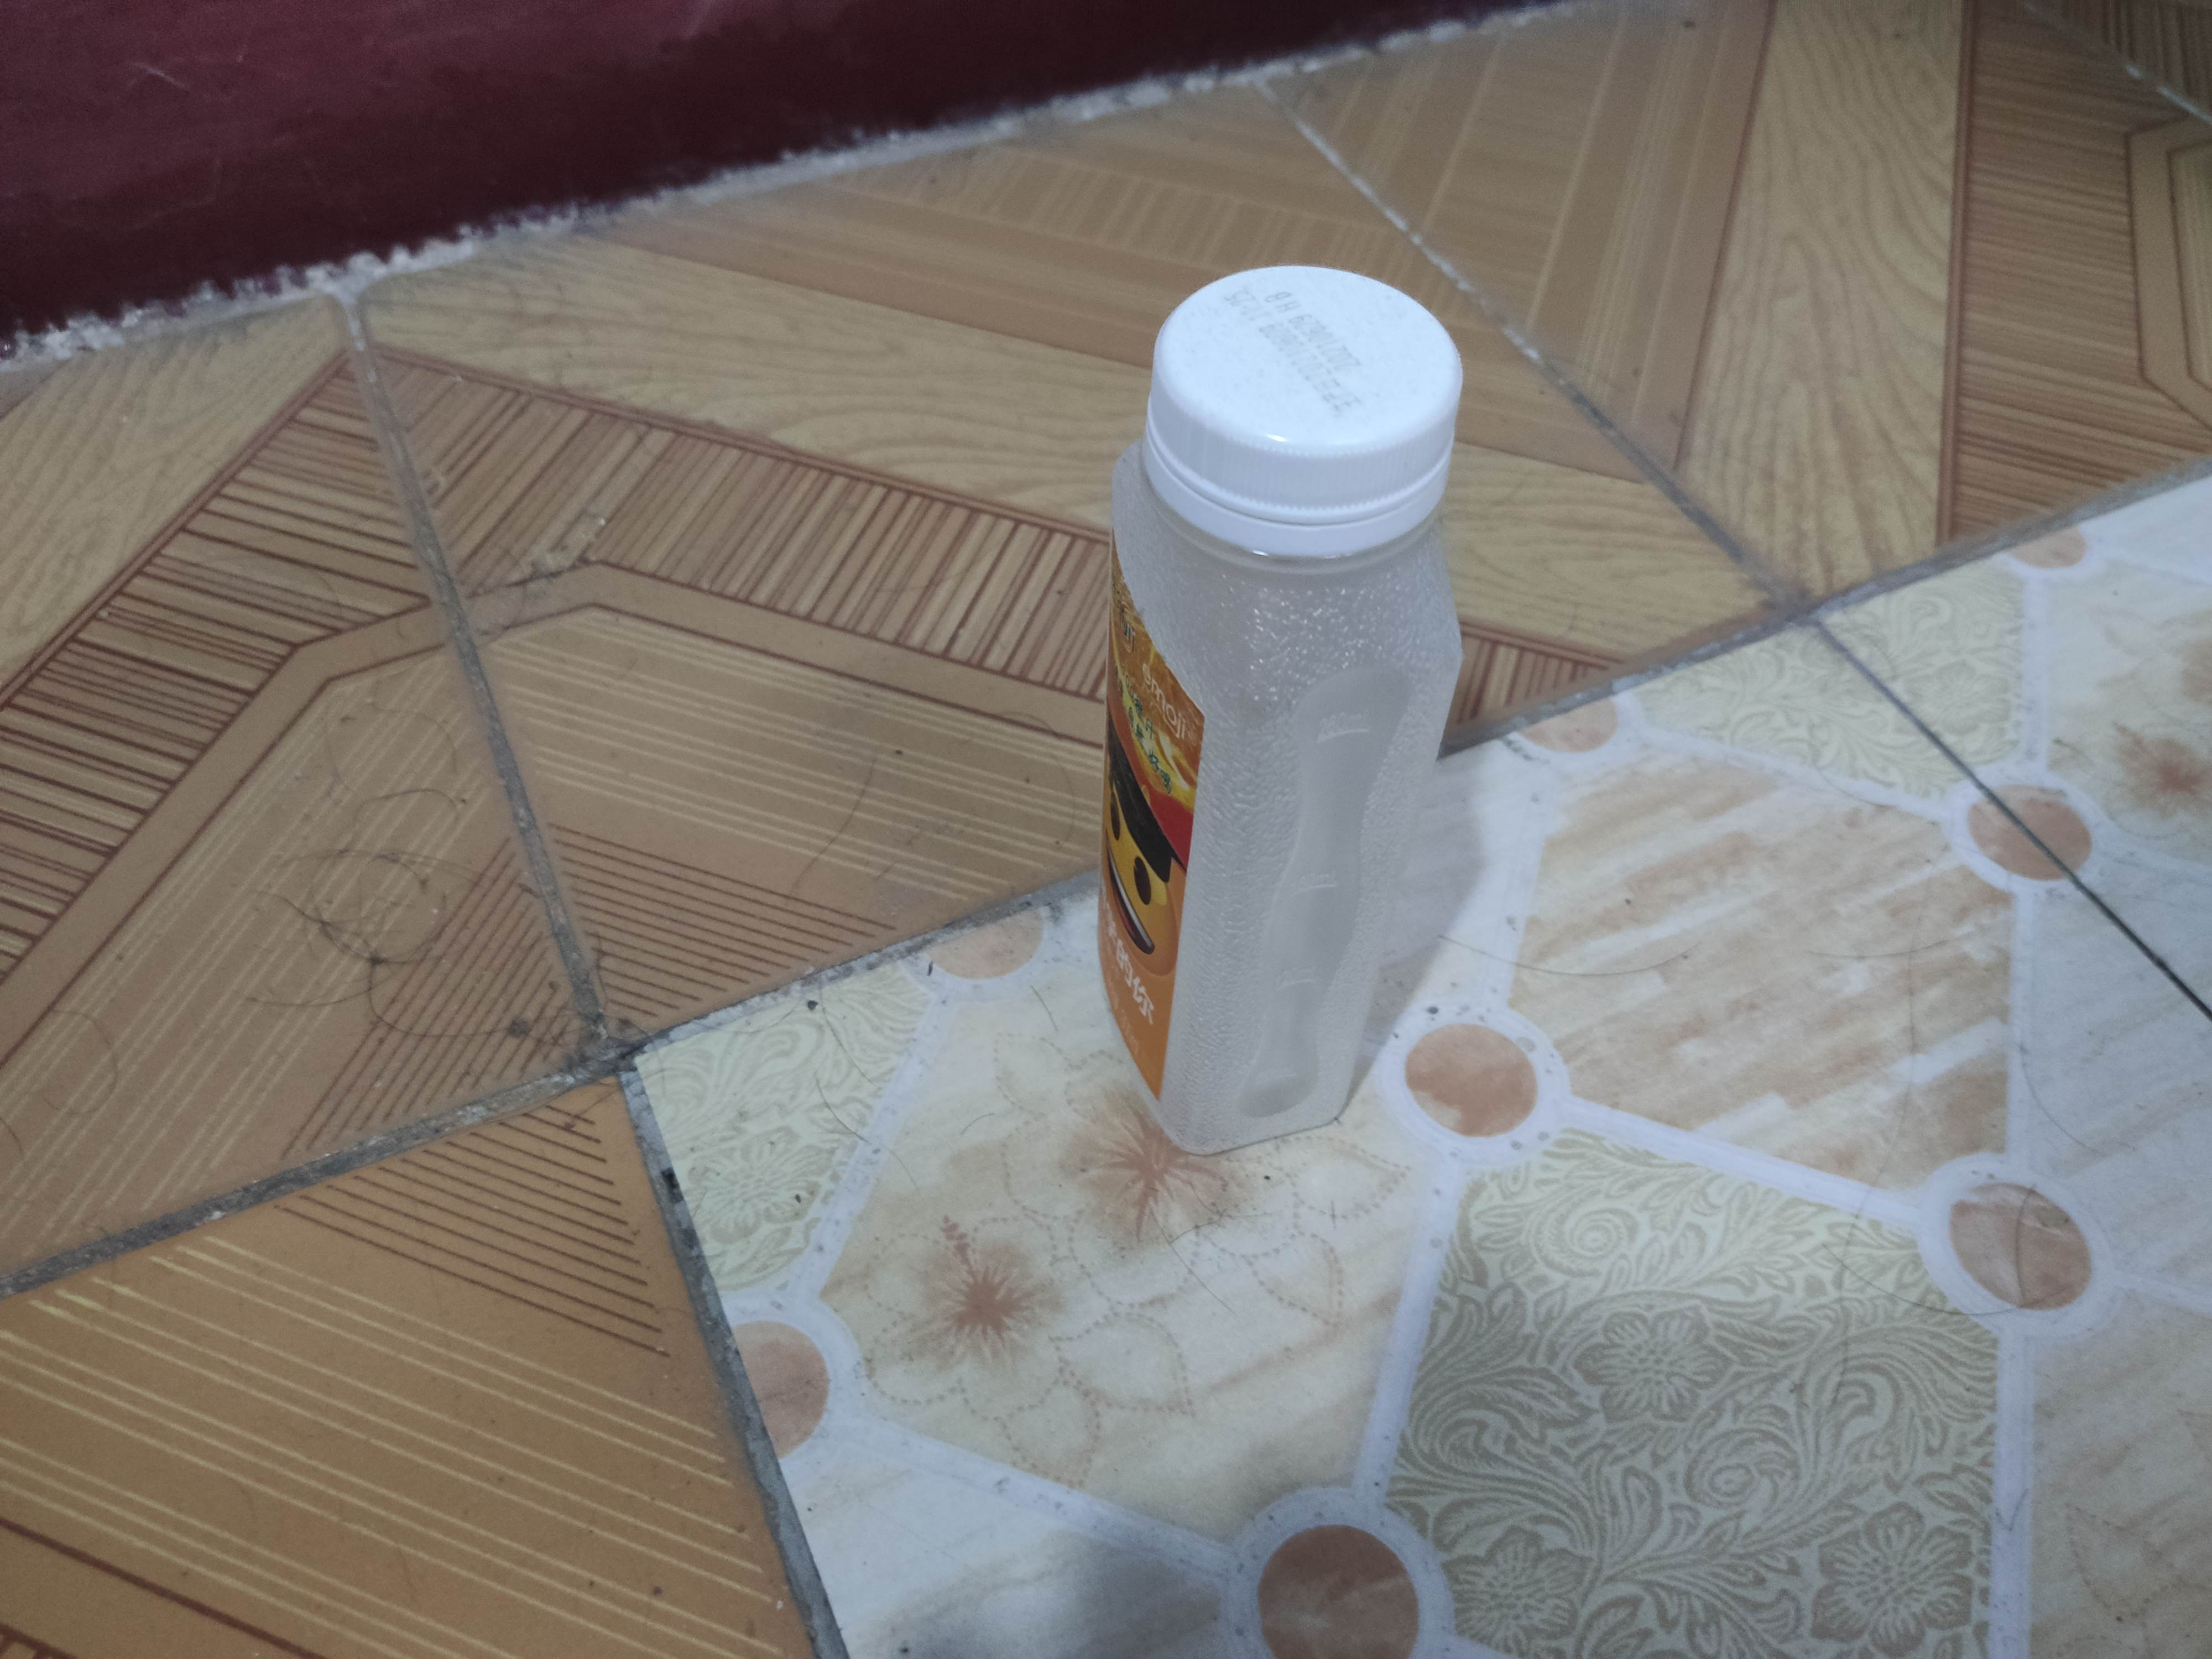Plastic Bottle: (1089, 260, 1472, 1162)
